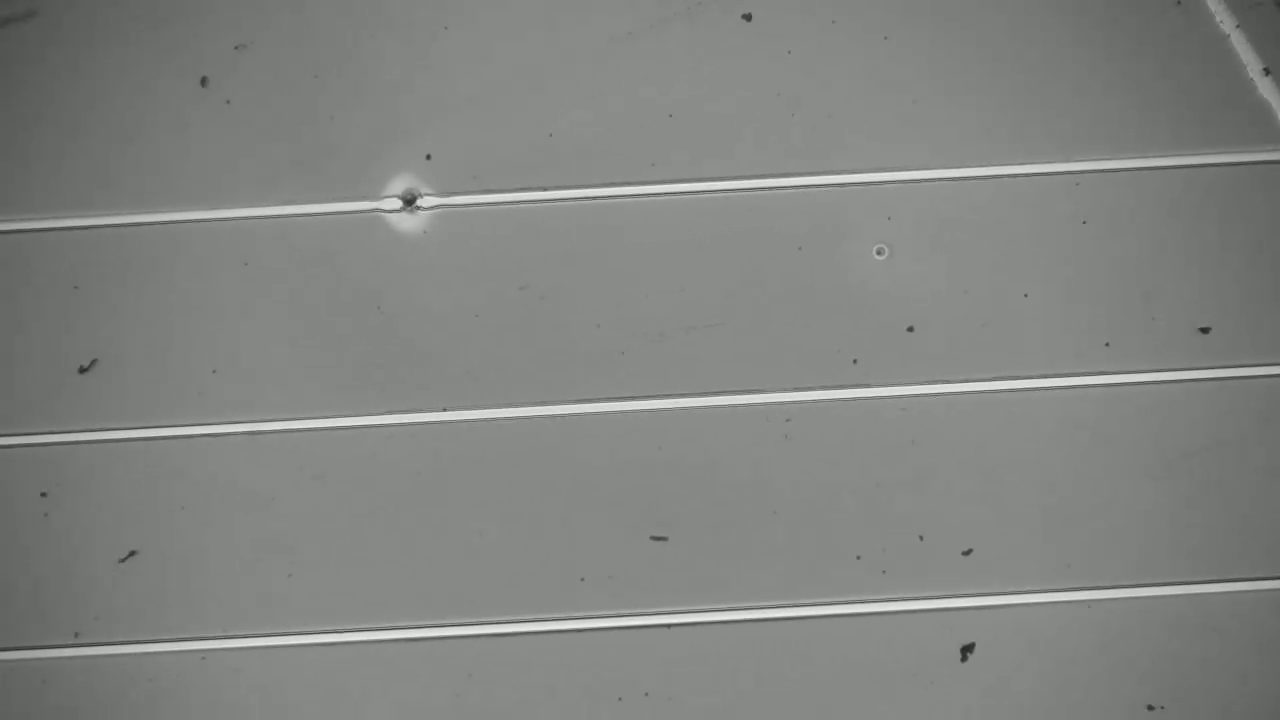stains_enbedded: (387, 180, 439, 227)
